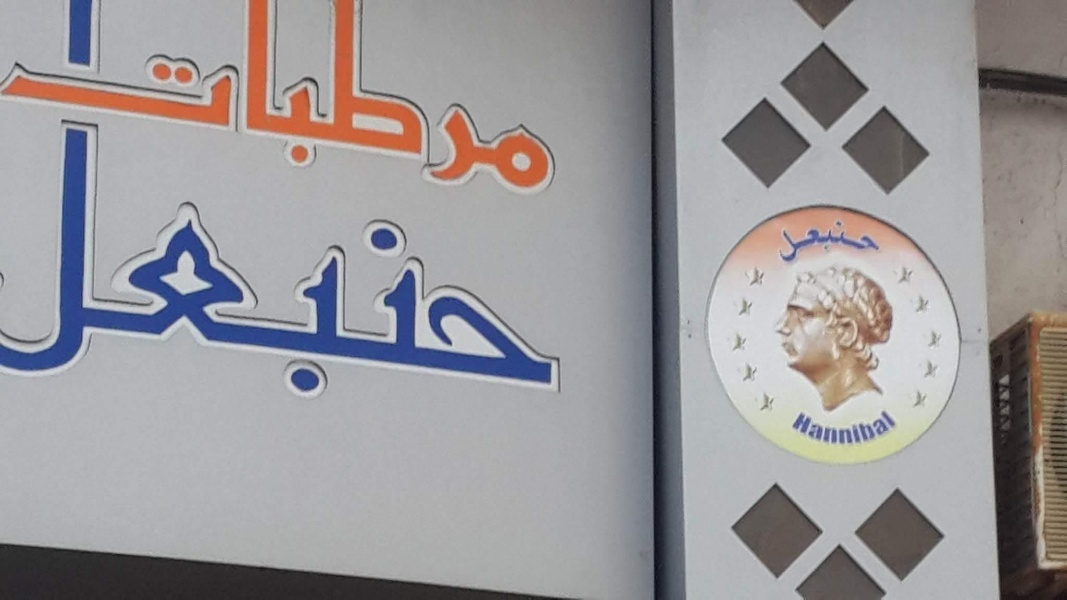text: (17, 109, 32, 419), (33, 109, 48, 419), (49, 109, 64, 419), (65, 109, 80, 419), (81, 109, 96, 419), (97, 109, 112, 419), (113, 109, 128, 419), (129, 109, 144, 419), (145, 109, 160, 419), (161, 109, 176, 419), (177, 109, 192, 419), (193, 109, 208, 419), (209, 109, 224, 419), (225, 109, 240, 419), (241, 109, 256, 419), (257, 109, 272, 419), (273, 109, 288, 419), (289, 109, 304, 419), (305, 109, 320, 419), (321, 109, 336, 419), (337, 109, 352, 419), (353, 109, 368, 419), (369, 109, 384, 419), (385, 109, 400, 419), (401, 109, 416, 419), (417, 109, 432, 419), (433, 109, 448, 419), (449, 109, 464, 419), (465, 109, 480, 419), (481, 109, 496, 419), (497, 109, 512, 419), (513, 109, 528, 419), (529, 109, 544, 419), (545, 109, 560, 419), (17, 1, 32, 215), (33, 1, 48, 215), (49, 1, 64, 215), (65, 1, 80, 215), (81, 1, 96, 215), (97, 1, 112, 215), (113, 1, 128, 215), (129, 1, 144, 215), (145, 1, 160, 215), (161, 1, 176, 215), (177, 1, 192, 215), (193, 1, 208, 215), (209, 1, 224, 215), (225, 1, 240, 215), (241, 1, 256, 215), (257, 1, 272, 215), (273, 1, 288, 215), (289, 1, 304, 215), (305, 1, 320, 215), (321, 1, 336, 215), (337, 1, 352, 215), (353, 1, 368, 215), (369, 1, 384, 215), (385, 1, 400, 215), (401, 1, 416, 215), (417, 1, 432, 215), (433, 1, 448, 215), (449, 1, 464, 215), (465, 1, 480, 215), (481, 1, 496, 215), (497, 1, 512, 215), (513, 1, 528, 215), (529, 1, 544, 215), (545, 1, 560, 215), (6, 109, 16, 419), (4, 1, 16, 215), (561, 109, 566, 419), (561, 1, 567, 215), (769, 216, 784, 264), (785, 216, 800, 264), (801, 216, 816, 264), (817, 216, 832, 264), (833, 216, 848, 264), (849, 216, 864, 264), (865, 216, 880, 264), (801, 407, 816, 449), (817, 407, 832, 449), (833, 407, 848, 449), (849, 407, 864, 449), (865, 407, 880, 449), (881, 407, 896, 449), (793, 407, 800, 449), (881, 216, 884, 264), (897, 407, 900, 449), (767, 216, 768, 264)
